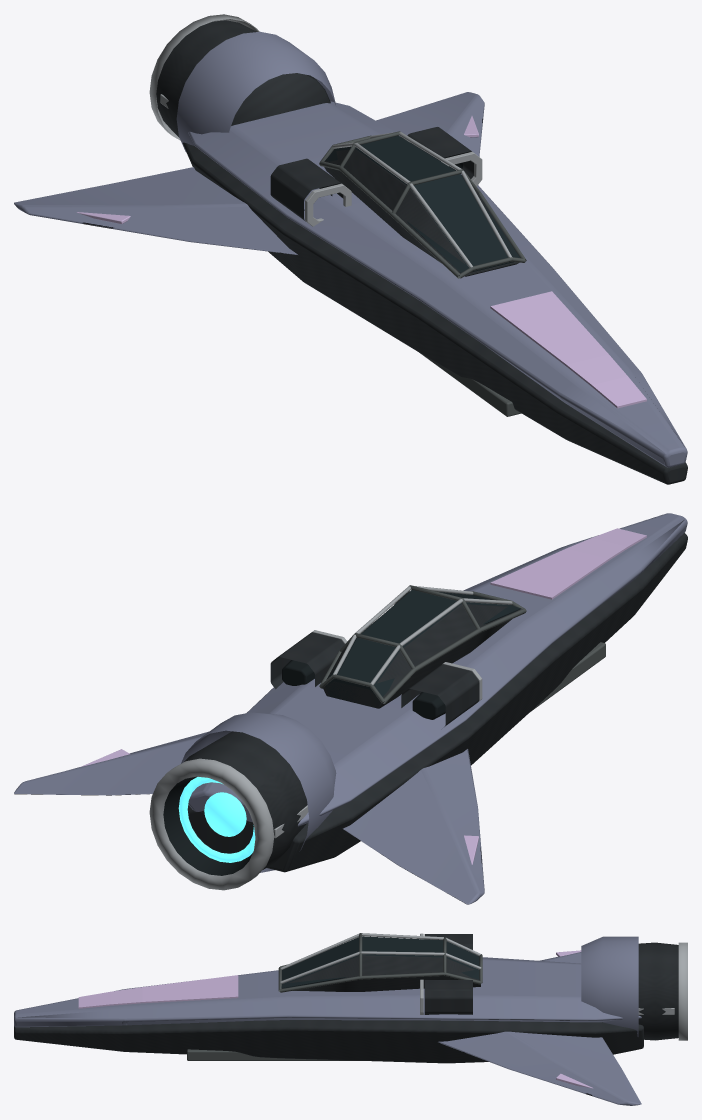
File: pike.glb
The picture shows the model from 3 angles, top to bottom: view 1: azimuth 30°, elevation 25°; view 2: azimuth 150°, elevation 25°; view 3: azimuth 270°, elevation 25°; orthographic projection. The views are drawn at different scales.
Parts seen in each view (by area): view 1: pike_Ceramic_Geometry, pike_carbon_Geometry, pike_glass_Geometry, pike_accent_Geometry, pike_metal_Geometry, pike_edge_Geometry; view 2: pike_Ceramic_Geometry, pike_carbon_Geometry, pike_metal_Geometry, pike_glass_Geometry, pike_accent_Geometry, pike_vent_Geometry, pike_edge_Geometry, pike_Ion_Geometry; view 3: pike_Ceramic_Geometry, pike_carbon_Geometry, pike_glass_Geometry, pike_accent_Geometry, pike_metal_Geometry, pike_edge_Geometry.
Part boxes in pixels (bbox=[...]): pike_Ceramic_Geometry: bbox=[14, 31, 687, 467]; pike_carbon_Geometry: bbox=[156, 20, 687, 484]; pike_glass_Geometry: bbox=[325, 135, 519, 272]; pike_accent_Geometry: bbox=[77, 116, 646, 408]; pike_metal_Geometry: bbox=[149, 14, 512, 267]; pike_edge_Geometry: bbox=[319, 131, 526, 416]; pike_Ceramic_Geometry: bbox=[14, 513, 687, 904]; pike_carbon_Geometry: bbox=[184, 533, 687, 872]; pike_metal_Geometry: bbox=[149, 585, 512, 890]; pike_glass_Geometry: bbox=[325, 590, 521, 704]; pike_accent_Geometry: bbox=[81, 528, 646, 864]; pike_vent_Geometry: bbox=[163, 660, 445, 875]; pike_edge_Geometry: bbox=[319, 585, 605, 711]; pike_Ion_Geometry: bbox=[178, 777, 255, 862]; pike_Ceramic_Geometry: bbox=[14, 936, 641, 1105]; pike_carbon_Geometry: bbox=[14, 934, 678, 1063]; pike_glass_Geometry: bbox=[281, 936, 479, 988]; pike_accent_Geometry: bbox=[78, 950, 592, 1088]; pike_metal_Geometry: bbox=[280, 933, 687, 1040]; pike_edge_Geometry: bbox=[187, 933, 482, 1060].
Bounding box in the file's own units: 3.72 × 1.11 × 6.58.
9 materials, 3 textured.
